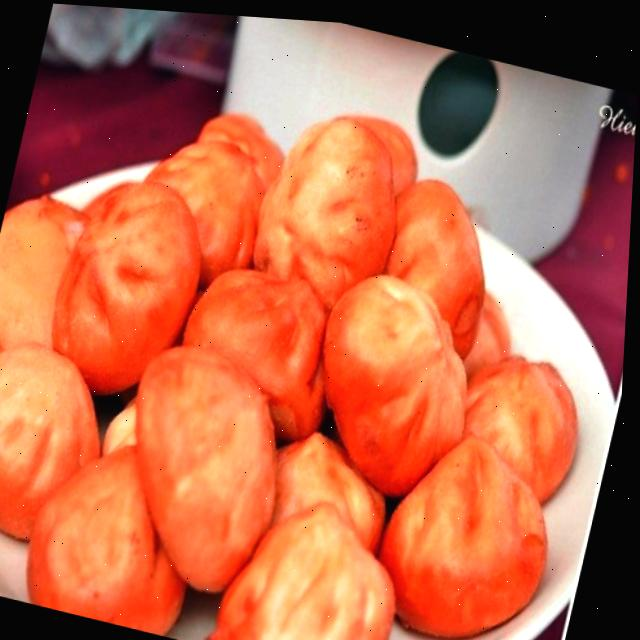带馅早点: (0, 19, 639, 640)
